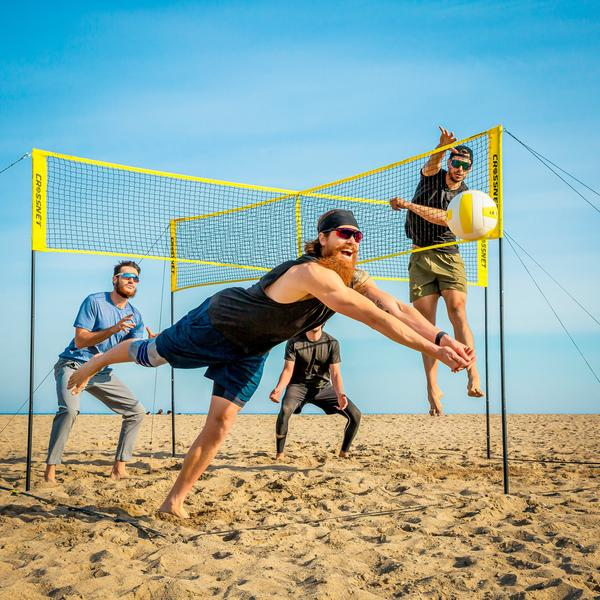ball: (445, 189, 499, 242)
